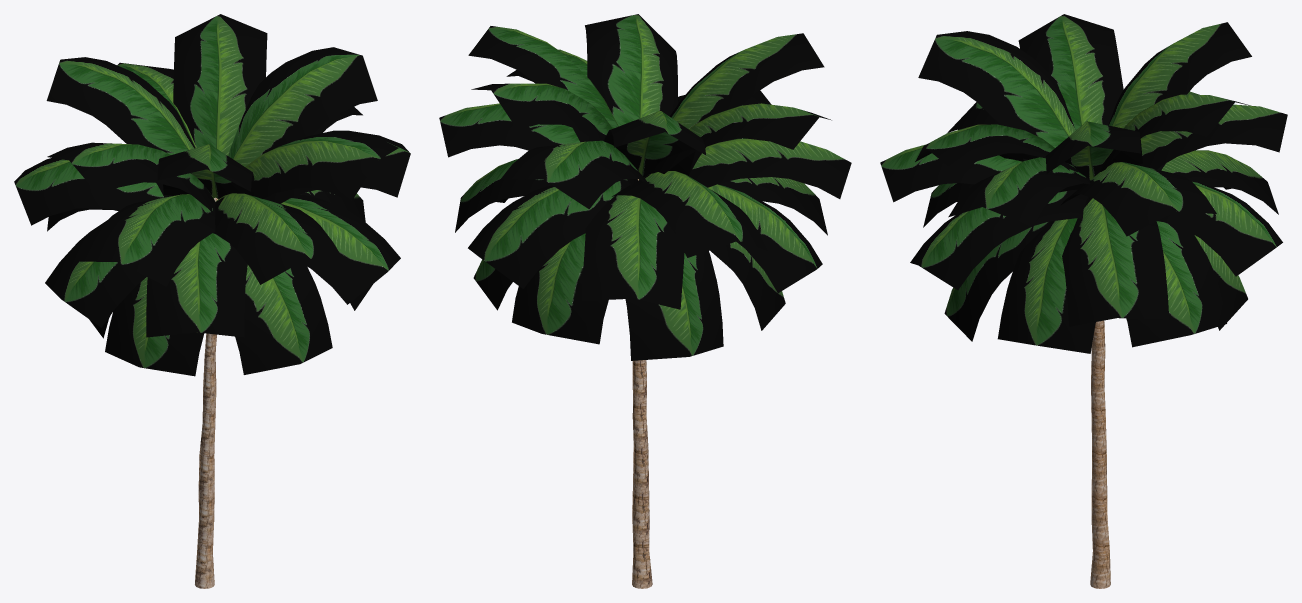
The model's file is free_palm.gltf.
3 views of the same model, side by side, from view 1: azimuth 30°, elevation 25°; view 2: azimuth 150°, elevation 25°; view 3: azimuth 270°, elevation 25° (orthographic). The views are drawn at different scales.
Parts seen in each view (by area): view 1: free_palm; view 2: free_palm; view 3: free_palm.
Part boxes in pixels (left/top/right/bottom): free_palm: left=14, top=14, right=410, bottom=588; free_palm: left=439, top=14, right=851, bottom=588; free_palm: left=880, top=14, right=1287, bottom=588.
Bounding box in the file's own units: 3.53 × 5.17 × 3.65.
Materials: 2 (2 with a texture image).
